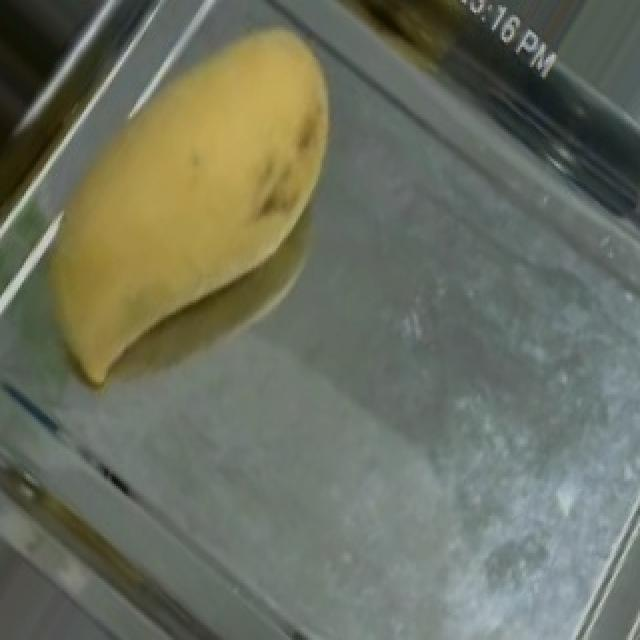fruit: (30, 0, 406, 375)
